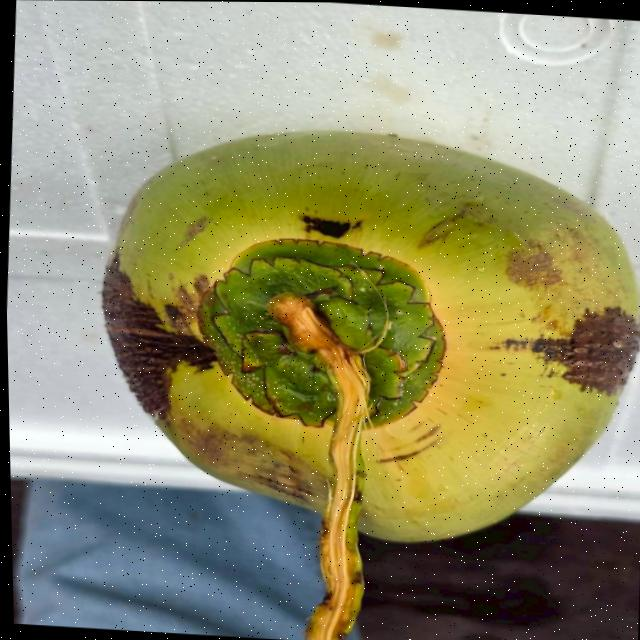coco_1.5: (125, 197, 504, 477)
